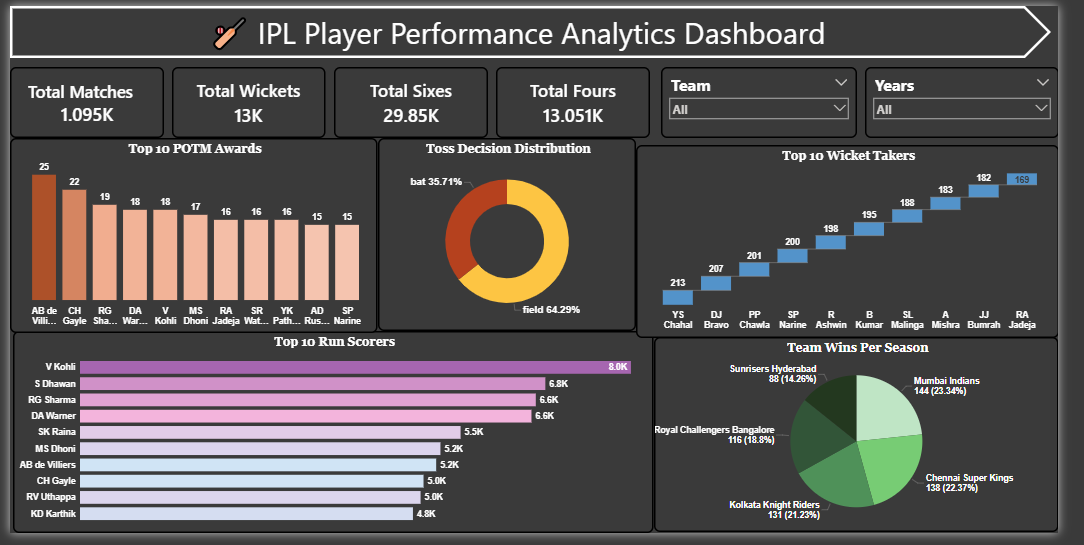

The page's visual inventory and layout, read from the dashboard file:
{"tool":"powerbi","page":{"name":"Page 1","canvas":[2097,1054],"ordinal":0},"visuals":[{"type":"clusteredBarChart","title":"Top 10 Run Scorers","fields":{"Category":["ipl_analytics deliveries.batter"],"Y":["Sum(ipl_analytics deliveries.batsman_runs)"]},"box":[6.8,649.4,1280.7,403.6],"z":0},{"type":"waterfallChart","title":"Top 10 Wicket Takers","fields":{"Category":["ipl_analytics deliveries.bowler"],"Y":["Sum(ipl_analytics deliveries.is_wicket)"]},"box":[1251.4,277.3,845.6,385.6],"z":1000},{"type":"pieChart","title":"Team Wins Per Season","fields":{"Category":["ipl_analytics matches.winner"],"Y":["CountNonNull(ipl_analytics matches.id)"]},"box":[1287.5,662.9,809.5,390.1],"z":2000},{"type":"donutChart","title":"Toss Decision Distribution","fields":{"Category":["ipl_analytics matches.toss_decision"],"Y":["Count(ipl_analytics matches.id)"]},"box":[735.1,263.8,516.4,385.6],"z":3000},{"type":"clusteredColumnChart","title":"Top 10 POTM Awards","fields":{"Category":["ipl_analytics matches.player_of_match"],"Y":["CountNonNull(ipl_analytics matches.id)"]},"box":[0,263.8,735.1,390.1],"z":4000},{"type":"slicer","fields":{"Values":["ipl_analytics matches.season"]},"box":[1709.2,121.8,387.8,142.1],"z":5000},{"type":"cardVisual","fields":{"Data":["CountNonNull(ipl_analytics matches.id)"]},"box":[0,122,308,142],"z":6000},{"type":"cardVisual","fields":{"Data":["CountNonNull(ipl_analytics deliveries.batsman_runs)"]},"box":[972,122,308,142],"z":7000},{"type":"cardVisual","fields":{"Data":["Sum(ipl_analytics deliveries.is_wicket)"]},"box":[324.7,121.8,306.7,142.1],"z":8000},{"type":"cardVisual","fields":{"Data":["CountNonNull(ipl_analytics deliveries.batsman_runs)"]},"box":[648,122,308,142],"z":9000},{"type":"shape","box":[0,0,2082,104],"z":10000},{"type":"slicer","fields":{"Values":["ipl_analytics matches.team1"]},"box":[1301,121.8,392.3,142.1],"z":11000}]}

Visuals, with their boxes in screenshot pixels (x1, y1, x2, y2), scaled from the page's 2097x1054 canvas onto the 1084x545 screenshot:
"Top 10 Run Scorers" clusteredBarChart: (left=4, top=336, right=666, bottom=544)
"Top 10 Wicket Takers" waterfallChart: (left=647, top=143, right=1083, bottom=343)
"Team Wins Per Season" pieChart: (left=666, top=343, right=1083, bottom=544)
"Toss Decision Distribution" donutChart: (left=380, top=136, right=647, bottom=336)
"Top 10 POTM Awards" clusteredColumnChart: (left=0, top=136, right=380, bottom=338)
slicer - ipl_analytics matches.season: (left=884, top=63, right=1083, bottom=136)
cardVisual - CountNonNull(ipl_analytics matches.id): (left=0, top=63, right=159, bottom=137)
cardVisual - CountNonNull(ipl_analytics deliveries.batsman_runs): (left=502, top=63, right=662, bottom=137)
cardVisual - Sum(ipl_analytics deliveries.is_wicket): (left=168, top=63, right=326, bottom=136)
cardVisual - CountNonNull(ipl_analytics deliveries.batsman_runs): (left=335, top=63, right=494, bottom=137)
shape: (left=0, top=0, right=1076, bottom=54)
slicer - ipl_analytics matches.team1: (left=673, top=63, right=875, bottom=136)
